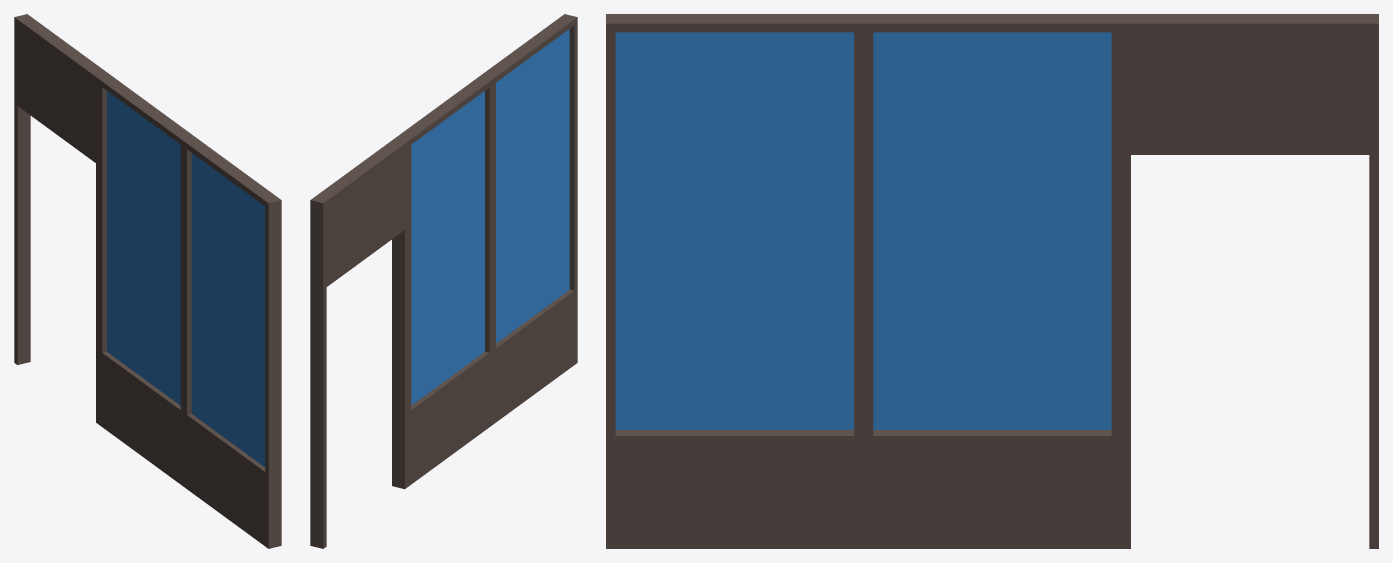
File: Wall_WindowAndDoor.FBX
The picture shows the model from 3 angles, left to right: view 1: azimuth 30°, elevation 25°; view 2: azimuth 150°, elevation 25°; view 3: azimuth 270°, elevation 25°; orthographic projection. The views are drawn at different scales.
Visible parts, largest first — view 1: Wall_WindowAndDoor; view 2: Wall_WindowAndDoor; view 3: Wall_WindowAndDoor.
Boxes of the visible parts, x1=… form: Wall_WindowAndDoor: x1=14, y1=14, x2=281, y2=548; Wall_WindowAndDoor: x1=310, y1=14, x2=577, y2=548; Wall_WindowAndDoor: x1=606, y1=14, x2=1378, y2=548.
Size of the model in its own units: 0.1179 by 3 by 4.
